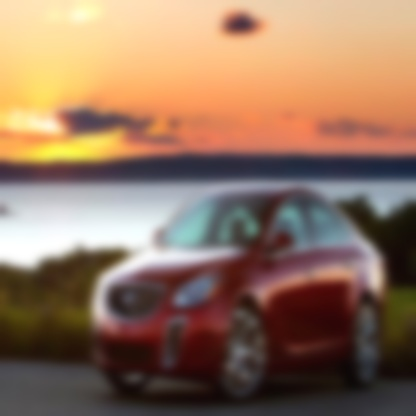Vehicle: (93, 182, 387, 404)
